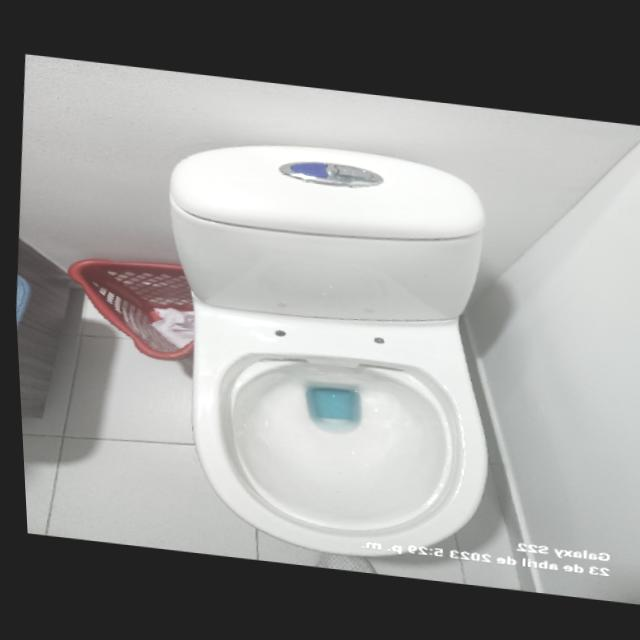toilet: (134, 126, 515, 569)
